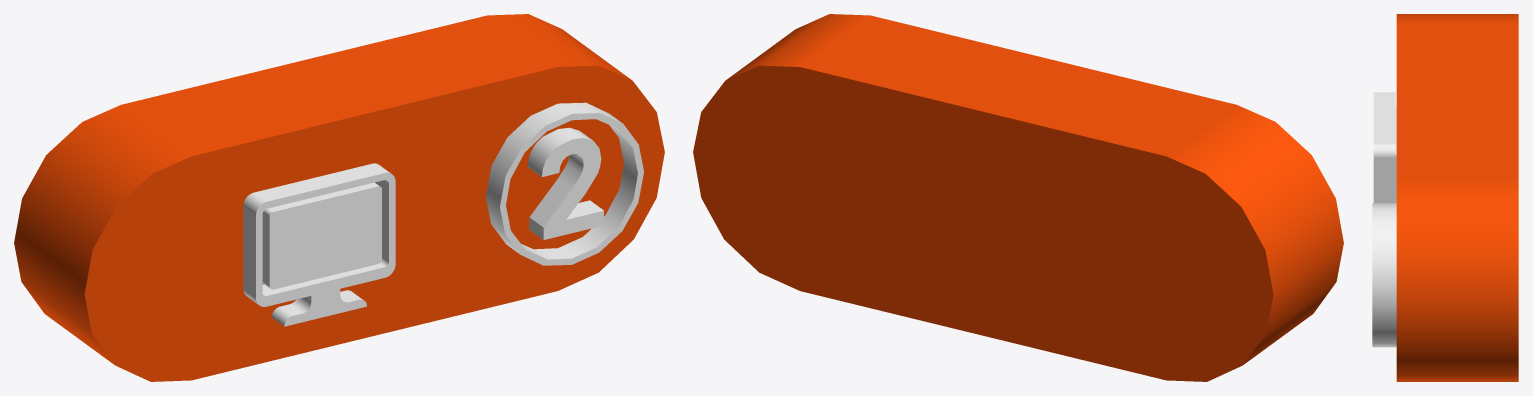
Rendered from Screen_2.fbx.
3 views of the same model, side by side, from view 1: azimuth 30°, elevation 25°; view 2: azimuth 150°, elevation 25°; view 3: azimuth 270°, elevation 25° (orthographic). The views are drawn at different scales.
Parts seen in each view (by area): view 1: Orange, Object_3, Object_1, Object_5, Object_6; view 2: Orange; view 3: Orange, Object_5, Object_3, Object_1.
Part boxes in pixels (left/top/right/bottom): Orange: left=14, top=14, right=664, bottom=381; Object_3: left=243, top=163, right=395, bottom=326; Object_1: left=262, top=182, right=381, bottom=289; Object_5: left=485, top=102, right=643, bottom=265; Object_6: left=527, top=127, right=603, bottom=239; Orange: left=693, top=14, right=1343, bottom=381; Orange: left=1396, top=14, right=1518, bottom=381; Object_5: left=1372, top=203, right=1396, bottom=347; Object_3: left=1373, top=92, right=1395, bottom=203; Object_1: left=1395, top=106, right=1396, bottom=203.
Bounding box in the file's own units: 4.75 × 1.2 × 1.75.
